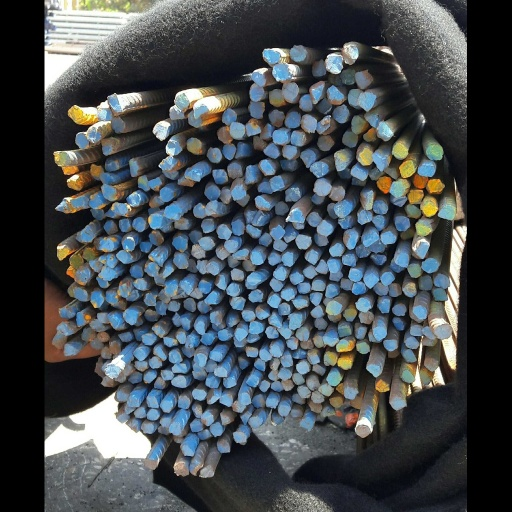dipstickw: (376, 120, 394, 141), (357, 92, 376, 111), (272, 63, 290, 83), (325, 54, 343, 73), (282, 81, 298, 102), (355, 71, 373, 89), (107, 313, 126, 330), (412, 239, 429, 258), (433, 323, 453, 339), (108, 94, 123, 115), (372, 153, 390, 170), (351, 116, 368, 134), (97, 103, 113, 122), (327, 86, 343, 105), (342, 45, 358, 64), (284, 111, 301, 128), (334, 154, 351, 171), (357, 148, 374, 165), (68, 105, 84, 123), (310, 161, 328, 177), (262, 48, 280, 64), (317, 116, 333, 134), (332, 105, 348, 123), (399, 160, 415, 178), (301, 114, 316, 133), (101, 183, 117, 200), (204, 201, 221, 217), (258, 160, 275, 176), (314, 180, 331, 196), (269, 89, 285, 106), (290, 45, 307, 61), (317, 135, 334, 151), (426, 144, 443, 160), (415, 220, 432, 236), (53, 151, 71, 166), (57, 198, 75, 213), (122, 310, 140, 325), (159, 156, 177, 171), (163, 205, 181, 220), (249, 101, 264, 119), (269, 109, 284, 127), (298, 94, 313, 112), (348, 88, 363, 106), (421, 258, 439, 273), (310, 85, 324, 104), (204, 185, 220, 201), (212, 169, 228, 185), (306, 211, 322, 227), (217, 127, 233, 143), (229, 122, 245, 138), (334, 201, 350, 217), (363, 230, 379, 246), (342, 131, 358, 147), (311, 60, 327, 76), (392, 143, 408, 159), (75, 132, 90, 149), (174, 93, 189, 110), (188, 110, 203, 127), (165, 140, 182, 155), (325, 300, 342, 315), (300, 150, 315, 167), (351, 165, 368, 180), (390, 181, 407, 196), (283, 225, 297, 243), (286, 209, 304, 223), (250, 83, 264, 101), (417, 162, 435, 176), (245, 165, 258, 184), (153, 124, 169, 139), (185, 167, 201, 182), (172, 236, 187, 252), (227, 163, 242, 179), (269, 176, 284, 192), (207, 147, 222, 163), (236, 142, 251, 158), (290, 130, 305, 146), (340, 69, 356, 84), (422, 201, 438, 216), (405, 204, 421, 219), (90, 163, 104, 180), (57, 321, 74, 335), (254, 196, 271, 210), (263, 144, 280, 158), (438, 206, 455, 220), (99, 237, 114, 252), (52, 333, 67, 348), (149, 230, 164, 245), (173, 254, 188, 269), (246, 224, 261, 239), (296, 234, 311, 249), (285, 187, 300, 202), (329, 186, 344, 201), (245, 122, 260, 137), (194, 104, 209, 119), (342, 234, 357, 249), (356, 297, 371, 312), (364, 113, 379, 128), (413, 173, 428, 188), (408, 189, 423, 204), (395, 216, 410, 231), (111, 117, 125, 133), (67, 176, 83, 190), (112, 202, 128, 216), (99, 266, 115, 280), (104, 364, 120, 378), (187, 137, 201, 153), (222, 144, 236, 160), (272, 130, 288, 144), (355, 424, 371, 438), (377, 177, 391, 193), (434, 274, 450, 288), (91, 290, 104, 307), (198, 237, 215, 250), (427, 179, 444, 192), (389, 397, 406, 410), (129, 159, 141, 177), (87, 127, 101, 142), (89, 195, 104, 209), (126, 192, 140, 207), (69, 253, 83, 268), (73, 287, 88, 301), (159, 187, 174, 201), (206, 373, 220, 388), (217, 224, 231, 239), (255, 305, 270, 319), (252, 210, 266, 225), (317, 221, 332, 235), (282, 145, 297, 159), (222, 109, 236, 124), (252, 71, 266, 86), (357, 210, 372, 224), (364, 274, 379, 288), (373, 215, 387, 230), (373, 200, 388, 214), (395, 253, 409, 268), (407, 263, 422, 277), (418, 275, 432, 290), (101, 139, 114, 155), (116, 250, 132, 263), (64, 343, 80, 356), (171, 375, 187, 388), (173, 463, 189, 476), (380, 231, 396, 244), (105, 157, 119, 171), (81, 228, 95, 242), (74, 271, 88, 285), (105, 290, 119, 304), (169, 105, 183, 119), (145, 262, 159, 276), (197, 300, 211, 314), (206, 261, 220, 275), (192, 244, 206, 258), (226, 313, 240, 327), (268, 314, 282, 328), (295, 327, 309, 341), (258, 232, 272, 246), (413, 305, 427, 319), (422, 326, 436, 340), (122, 236, 135, 251), (76, 312, 89, 327), (81, 328, 96, 341), (132, 217, 145, 232), (148, 214, 161, 229), (153, 345, 166, 360), (226, 283, 241, 296), (248, 289, 263, 302), (216, 245, 229, 260), (201, 218, 214, 233), (250, 251, 265, 264), (193, 203, 206, 218), (232, 185, 245, 200), (231, 220, 244, 235), (219, 189, 232, 204), (289, 314, 302, 329), (303, 265, 318, 278), (366, 364, 381, 377), (343, 386, 358, 399), (359, 311, 374, 324), (355, 244, 370, 257), (137, 175, 149, 191), (174, 217, 190, 229), (232, 249, 249, 260), (104, 220, 117, 234), (118, 283, 131, 297), (128, 370, 142, 383), (143, 369, 156, 383), (148, 177, 161, 191), (168, 350, 182, 363), (193, 353, 206, 367), (189, 462, 202, 476), (201, 412, 214, 426), (220, 412, 234, 425), (152, 324, 165, 338), (252, 394, 265, 408), (231, 297, 245, 310), (179, 281, 193, 294), (205, 292, 219, 305), (230, 268, 244, 281), (242, 259, 256, 272), (300, 417, 313, 431), (311, 390, 325, 403), (278, 367, 292, 380), (267, 294, 280, 308), (280, 288, 294, 301), (289, 272, 303, 285), (281, 252, 294, 266), (270, 227, 284, 240), (305, 250, 318, 264), (315, 260, 328, 274), (327, 259, 340, 273), (329, 243, 343, 256), (275, 202, 289, 215), (342, 254, 356, 267), (375, 379, 389, 392), (373, 326, 387, 339), (375, 282, 389, 295), (381, 272, 395, 285), (403, 283, 417, 296), (392, 303, 406, 316), (392, 317, 405, 331), (405, 336, 419, 349), (403, 349, 417, 362), (424, 358, 438, 371), (90, 208, 105, 220), (141, 333, 156, 345), (144, 309, 159, 321), (155, 300, 167, 315), (318, 384, 333, 396), (257, 182, 272, 194), (383, 339, 398, 351), (348, 269, 363, 281), (420, 370, 432, 385), (191, 369, 207, 380), (215, 274, 226, 290), (327, 203, 338, 219), (90, 318, 103, 331), (144, 293, 157, 306), (133, 278, 146, 291), (130, 265, 143, 278), (217, 440, 230, 453), (234, 327, 247, 340), (327, 372, 340, 385), (324, 353, 337, 366), (338, 324, 351, 337), (273, 267, 286, 280), (268, 252, 281, 265), (352, 281, 365, 294), (350, 396, 363, 409), (389, 283, 402, 296), (402, 369, 415, 382), (100, 173, 114, 185), (82, 247, 94, 261), (119, 218, 131, 232), (210, 422, 222, 436), (248, 416, 262, 428), (219, 394, 233, 406), (200, 333, 214, 345), (183, 298, 195, 312), (246, 375, 260, 387), (249, 322, 263, 334), (224, 240, 238, 252), (265, 326, 279, 338), (343, 309, 357, 321), (433, 288, 447, 300), (308, 401, 322, 413), (57, 245, 68, 260), (336, 340, 351, 351), (337, 358, 352, 369), (292, 299, 308, 309), (109, 341, 121, 354), (146, 408, 159, 420), (146, 396, 159, 408), (164, 284, 177, 296), (149, 356, 162, 368), (178, 396, 190, 409), (144, 458, 157, 470), (181, 444, 194, 456), (238, 392, 250, 405), (205, 359, 217, 372), (210, 311, 222, 324), (237, 356, 249, 369), (198, 281, 211, 293), (189, 231, 202, 243), (298, 386, 311, 398), (280, 379, 293, 391), (292, 372, 305, 384), (296, 361, 308, 374), (269, 345, 281, 358), (280, 355, 293, 367), (286, 336, 298, 349), (278, 302, 290, 315), (307, 352, 320, 364), (310, 306, 323, 318), (270, 279, 282, 292), (325, 284, 337, 297), (310, 292, 322, 305), (315, 234, 328, 246), (340, 278, 353, 290), (192, 389, 206, 400), (232, 401, 246, 412), (194, 321, 205, 335), (241, 310, 255, 321), (311, 280, 325, 291), (356, 342, 370, 353), (378, 299, 389, 313), (373, 254, 387, 265), (192, 404, 202, 419), (206, 394, 221, 404), (323, 336, 338, 346), (115, 390, 127, 402), (154, 377, 166, 389), (186, 335, 198, 347), (246, 346, 258, 358), (97, 331, 110, 342), (127, 396, 140, 407), (134, 360, 147, 371), (167, 300, 180, 311), (160, 401, 173, 412), (169, 423, 182, 434), (190, 421, 203, 432), (198, 429, 211, 440), (233, 432, 246, 443), (223, 377, 236, 388), (254, 358, 265, 371), (247, 274, 260, 285), (292, 393, 305, 404), (259, 349, 272, 360), (312, 364, 325, 375), (297, 282, 310, 293), (273, 240, 286, 251), (160, 370, 174, 380), (163, 337, 177, 347), (200, 467, 214, 477), (214, 367, 228, 377), (172, 313, 182, 327), (197, 260, 207, 274), (97, 312, 109, 323), (134, 407, 146, 418), (133, 349, 145, 360), (140, 241, 152, 252), (227, 256, 239, 267), (278, 405, 290, 416), (259, 380, 270, 392), (271, 380, 283, 391), (313, 335, 324, 347), (315, 318, 327, 329), (410, 325, 422, 336), (59, 308, 72, 318), (119, 332, 132, 342), (141, 423, 154, 433), (176, 331, 186, 344), (209, 351, 222, 361), (101, 347, 112, 358), (272, 414, 283, 425), (159, 417, 171, 427), (180, 318, 190, 330), (218, 330, 230, 340), (266, 398, 278, 408), (330, 397, 342, 407), (356, 327, 366, 339), (91, 340, 104, 349), (247, 333, 260, 342), (268, 370, 279, 380), (117, 414, 129, 422), (291, 409, 302, 417)
